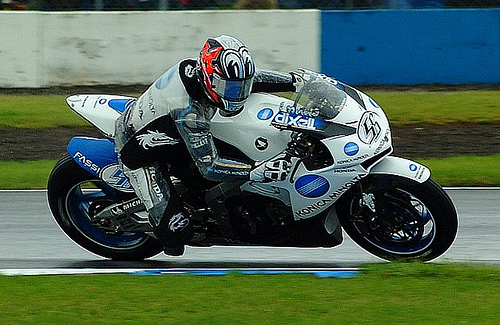helmet: (193, 38, 259, 116)
